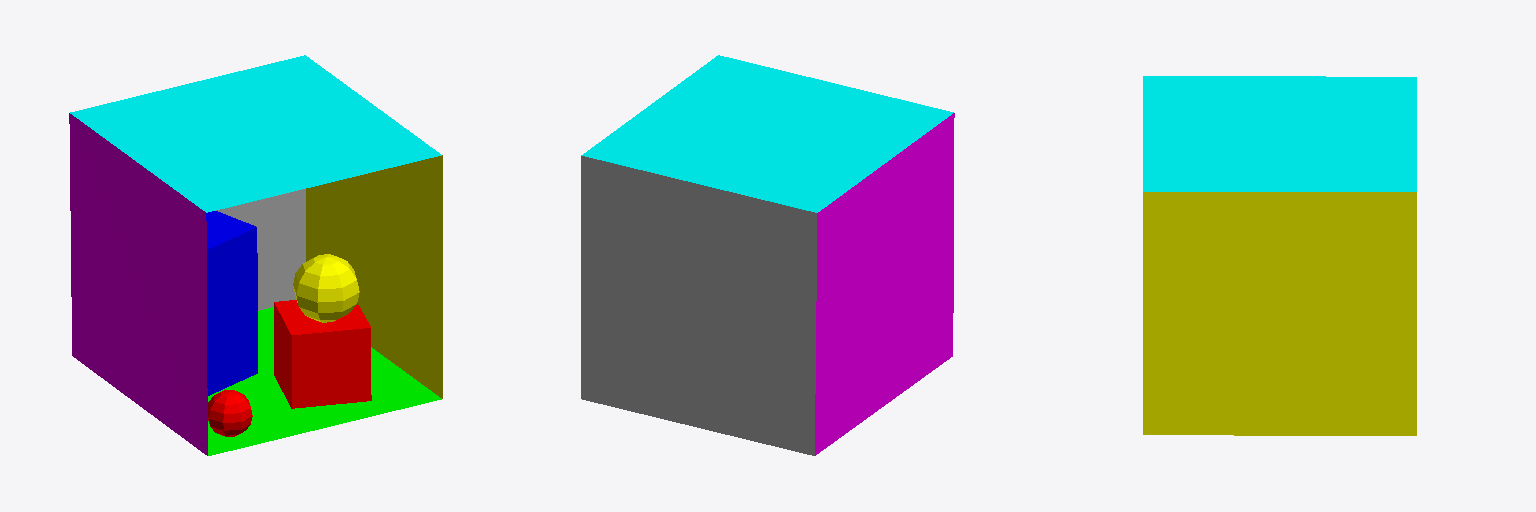
Rendered from cornell-box.obj.
3 views of the same model, side by side, from view 1: azimuth 30°, elevation 25°; view 2: azimuth 150°, elevation 25°; view 3: azimuth 270°, elevation 25° (orthographic).
Parts seen in each view (by area): view 1: left_wall, ceiling, right_wall, floor, short_box, tall_box, back_wall, sphere, sphere2; view 2: back_wall, left_wall, ceiling; view 3: right_wall, ceiling.
Boxes of the visible parts, x1=… form: left_wall: x1=69, y1=113, x2=207, y2=455; ceiling: x1=70, y1=55, x2=441, y2=212; right_wall: x1=306, y1=155, x2=442, y2=398; floor: x1=208, y1=307, x2=441, y2=455; short_box: x1=274, y1=300, x2=371, y2=408; tall_box: x1=206, y1=211, x2=257, y2=395; back_wall: x1=216, y1=189, x2=305, y2=310; sphere: x1=293, y1=254, x2=359, y2=322; sphere2: x1=208, y1=390, x2=252, y2=436; back_wall: x1=581, y1=156, x2=816, y2=455; left_wall: x1=815, y1=113, x2=954, y2=455; ceiling: x1=581, y1=55, x2=953, y2=212; right_wall: x1=1143, y1=192, x2=1416, y2=435; ceiling: x1=1143, y1=76, x2=1416, y2=191.
Size of the model in its own units: 5.56 by 5.49 by 5.6.